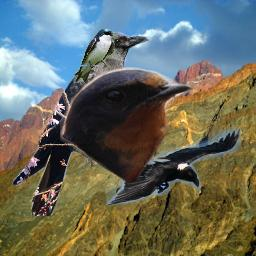Crow: (12, 31, 149, 216), (106, 127, 241, 205)
Swallow: (60, 66, 196, 184), (73, 28, 115, 83)
